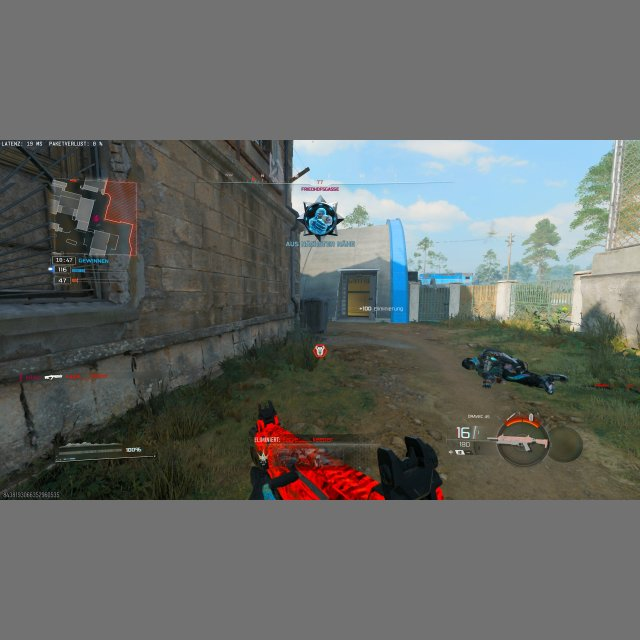head: (461, 357, 476, 371)
